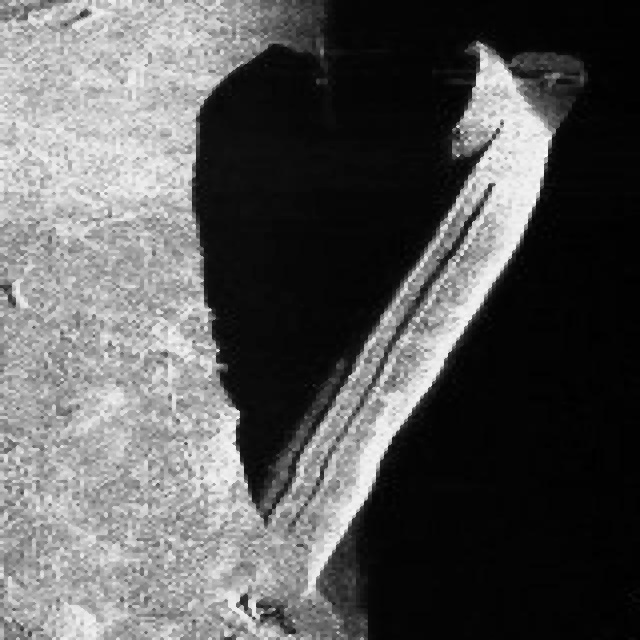Ship: (207, 27, 597, 634)
